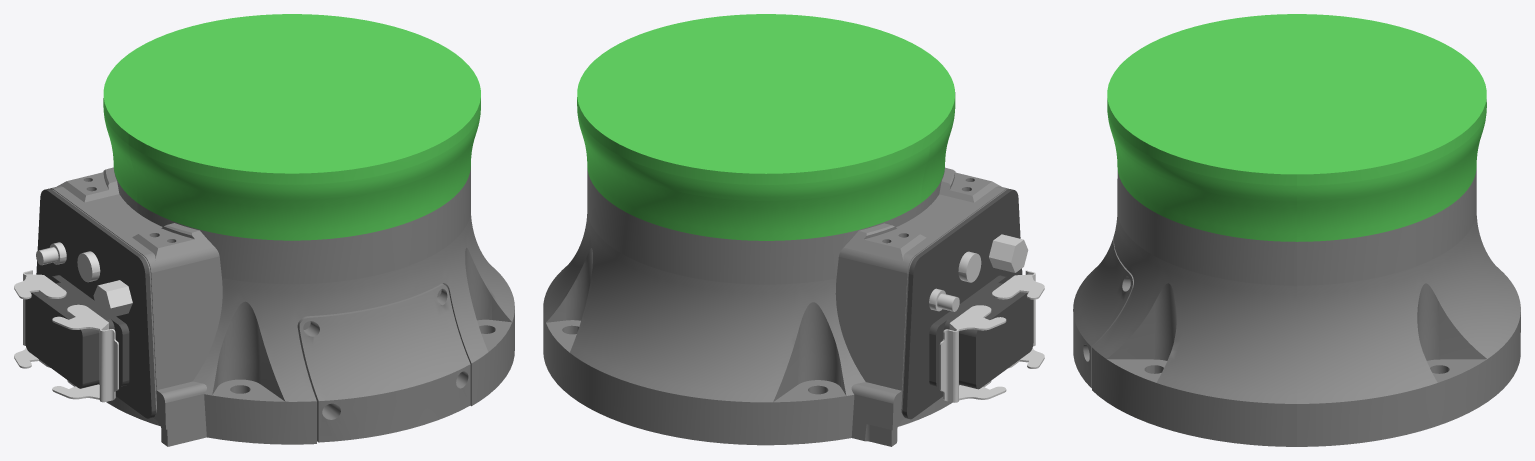
3 views of the same model, side by side, from view 1: azimuth 30°, elevation 25°; view 2: azimuth 150°, elevation 25°; view 3: azimuth 270°, elevation 25° (orthographic).
Parts seen in each view (by area): view 1: Mesh_0.017; view 2: Mesh_0.017; view 3: Mesh_0.017.
Boxes of the visible parts, x1,y1,x2,y2 form: Mesh_0.017: [14, 14, 514, 446]; Mesh_0.017: [543, 14, 1044, 446]; Mesh_0.017: [1073, 14, 1520, 446].
Bounding box in the file's own units: 0.329 × 0.283 × 0.18.
